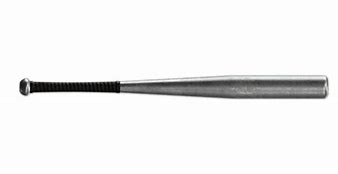bat: (18, 73, 330, 101)
